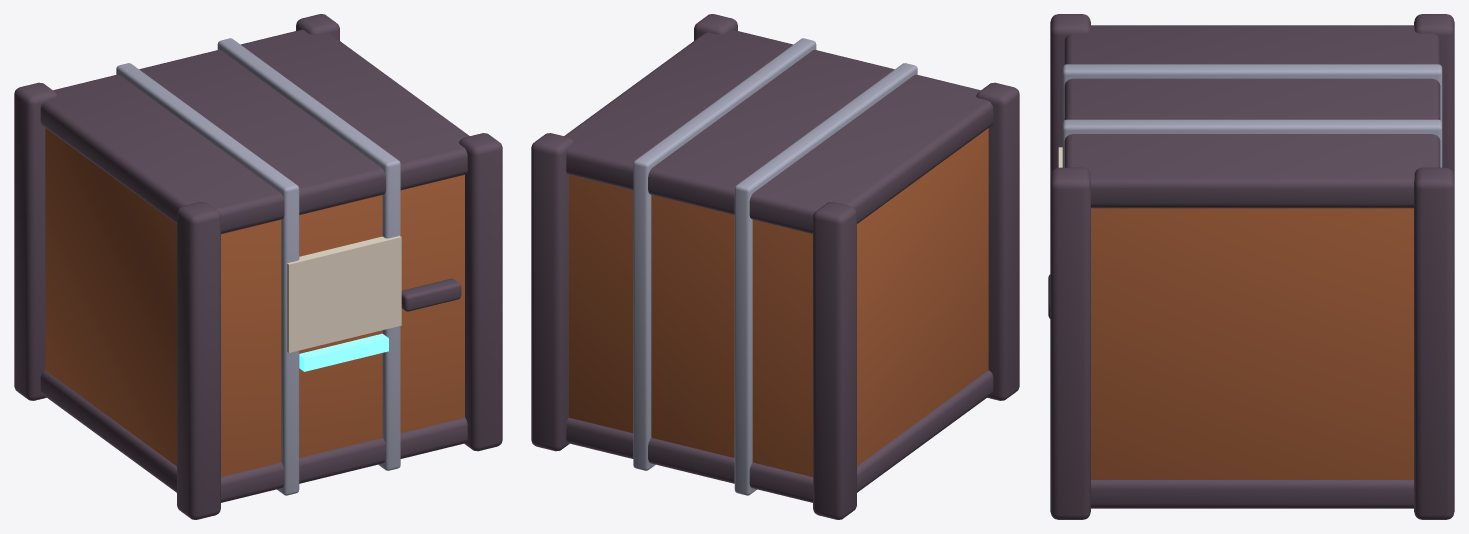
Rendered from crate_small.glb.
The picture shows the model from 3 angles, left to right: view 1: azimuth 30°, elevation 25°; view 2: azimuth 150°, elevation 25°; view 3: azimuth 270°, elevation 25°; orthographic projection. The views are drawn at different scales.
Parts seen in each view (by area): view 1: crate_small; view 2: crate_small; view 3: crate_small.
Part boxes in pixels (x1=…): crate_small: x1=14, y1=14, x2=502, y2=519; crate_small: x1=531, y1=14, x2=1019, y2=519; crate_small: x1=1048, y1=14, x2=1454, y2=519.
Bounding box in the file's own units: 1 × 0.94 × 1.
